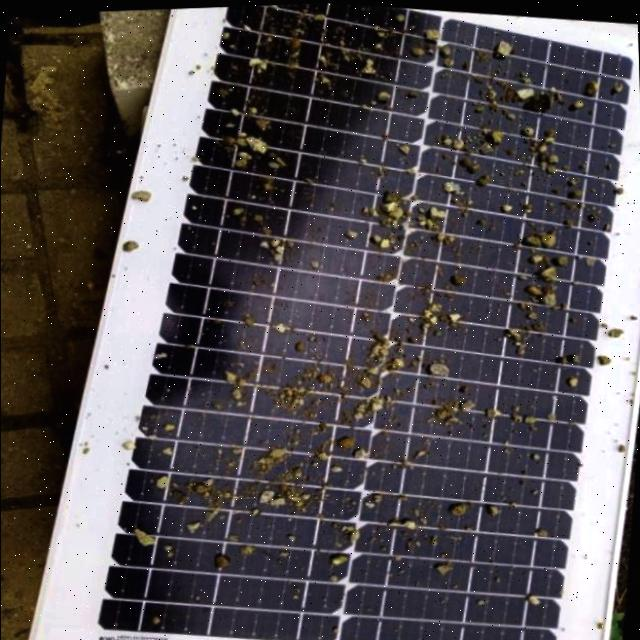Surface Contaminant: (152, 1, 640, 640)
